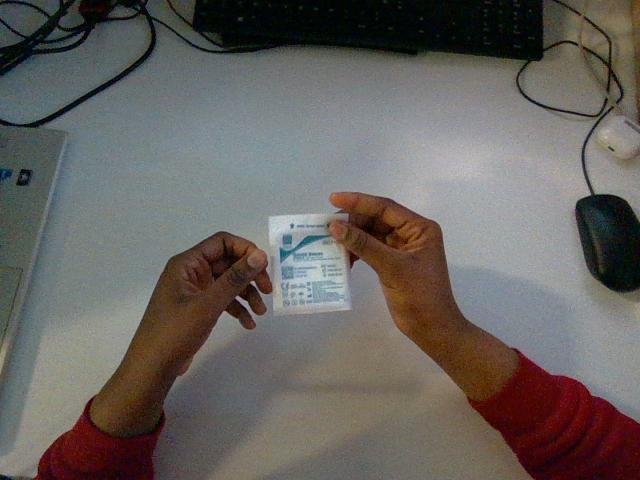gauze: (269, 213, 351, 314)
